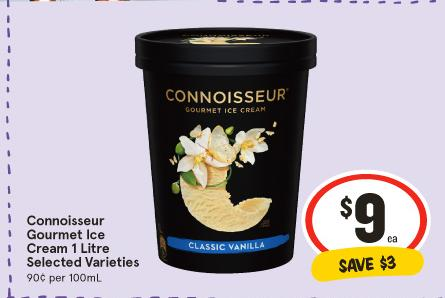description_block: (22, 205, 144, 272)
price_main: (308, 174, 420, 246)
product_image_block: (118, 20, 317, 282)
promo_text_block: (308, 247, 430, 280)
unit_price_block: (16, 268, 105, 286)
